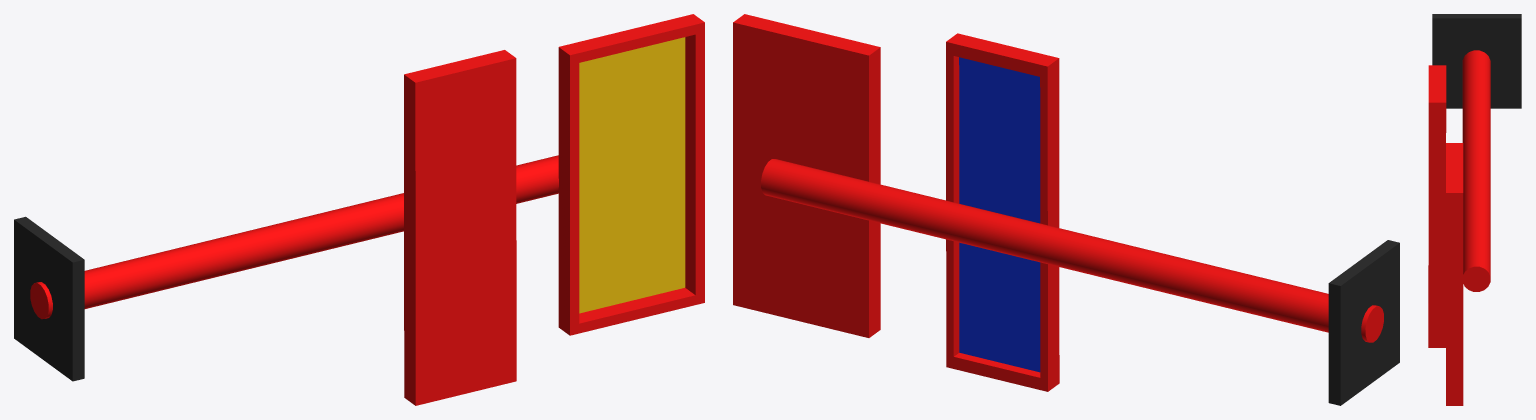
File: TorreLosPolos.FBX
3 renders of one model, left to right at view 1: azimuth 30°, elevation 25°; view 2: azimuth 150°, elevation 25°; view 3: azimuth 270°, elevation 25°, orthographic. The views are drawn at different scales.
Visible parts, largest first — view 1: Box016, Box017, Cylinder014, Box015; view 2: Box016, Box017, Cylinder014, Box015; view 3: Cylinder014, Box015, Box017, Box016.
Boxes of the visible parts, x1,y1,x2,y2 form: Box016: [558, 14, 704, 335]; Box017: [404, 50, 516, 405]; Cylinder014: [30, 155, 558, 319]; Box015: [14, 216, 84, 381]; Box016: [733, 14, 880, 337]; Box017: [946, 33, 1059, 391]; Cylinder014: [761, 159, 1383, 342]; Box015: [1328, 240, 1399, 405]; Cylinder014: [1462, 50, 1490, 291]; Box015: [1432, 14, 1521, 108]; Box017: [1428, 65, 1446, 347]; Box016: [1446, 143, 1463, 405].
Bounding box in the file's own units: 199 × 95.07 × 32.71.
